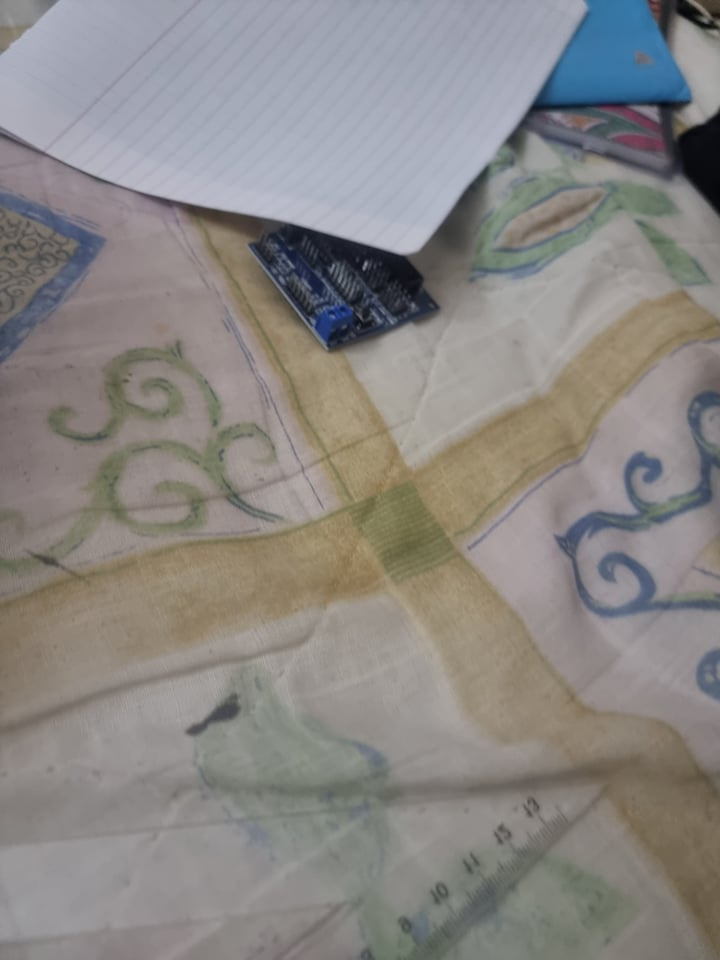5V EXPANSION: (248, 213, 442, 351)
